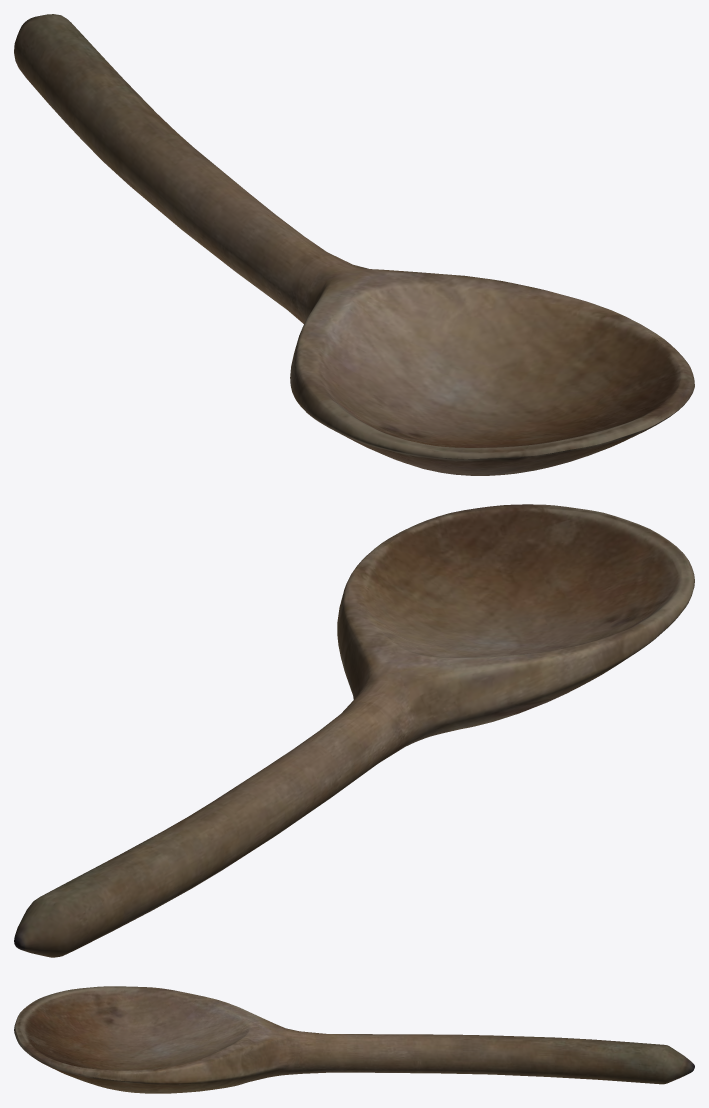
The model's file is wooden_spoon.glb.
3 renders of one model, top to bottom at view 1: azimuth 30°, elevation 25°; view 2: azimuth 150°, elevation 25°; view 3: azimuth 270°, elevation 25°, orthographic. The views are drawn at different scales.
Parts seen in each view (by area): view 1: wooden_spoon; view 2: wooden_spoon; view 3: wooden_spoon.
Boxes of the visible parts, bbox=[...] form: wooden_spoon: bbox=[14, 14, 694, 475]; wooden_spoon: bbox=[14, 504, 694, 957]; wooden_spoon: bbox=[14, 986, 694, 1093].
Bounding box in the file's own units: 0.0867 × 0.0251 × 0.2777.
1 material, 1 textured.
